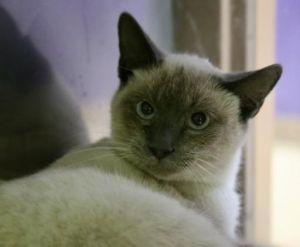siamese: (96, 4, 289, 198)
